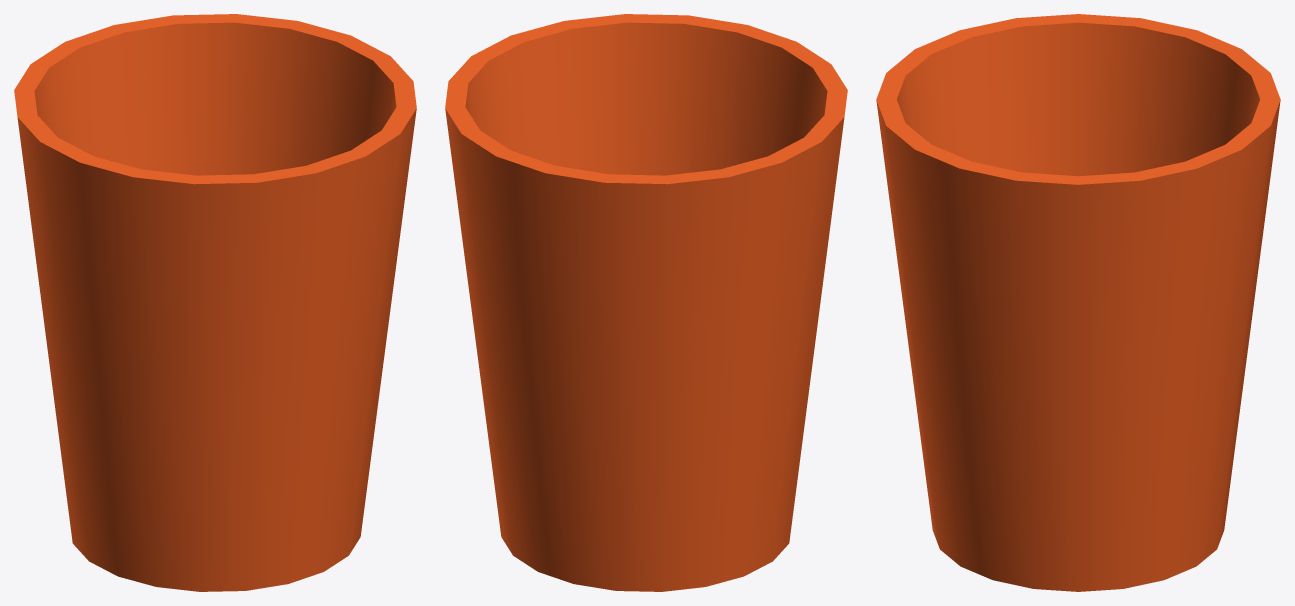
The model's file is vaso_dados.obj.
The picture shows the model from 3 angles, left to right: view 1: azimuth 30°, elevation 25°; view 2: azimuth 150°, elevation 25°; view 3: azimuth 270°, elevation 25°; orthographic projection.
Parts seen in each view (by area): view 1: pCylinder1; view 2: pCylinder1; view 3: pCylinder1.
Boxes of the visible parts, bbox=[...] form: pCylinder1: bbox=[14, 14, 416, 591]; pCylinder1: bbox=[445, 14, 847, 591]; pCylinder1: bbox=[876, 14, 1280, 591].
Bounding box in the file's own units: 8.63 × 10.15 × 8.63.
Materials: 1 (1 with a texture image).
